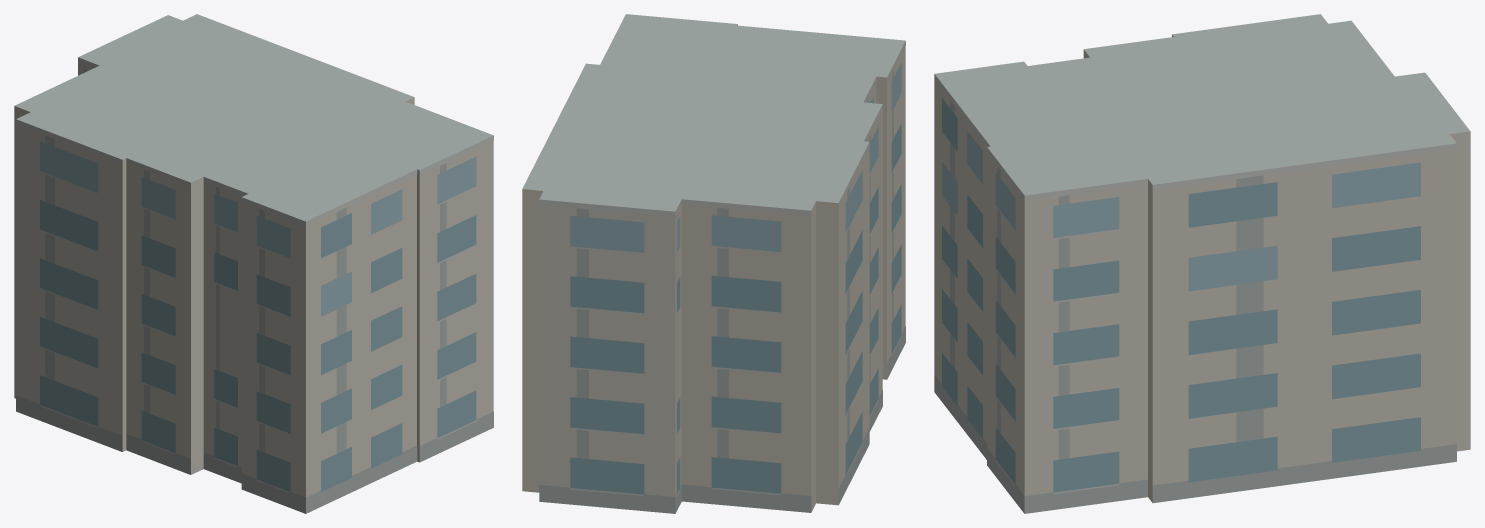
The model's file is survey-upis-32619048.glb.
The picture shows the model from 3 angles, left to right: view 1: azimuth 30°, elevation 25°; view 2: azimuth 150°, elevation 25°; view 3: azimuth 270°, elevation 25°; orthographic projection. The views are drawn at different scales.
Visible parts, largest first — view 1: survey-upis-32619048.tmp; view 2: survey-upis-32619048.tmp; view 3: survey-upis-32619048.tmp.
Boxes of the visible parts, x1,y1,x2,y2 form: survey-upis-32619048.tmp: (14, 14, 493, 513); survey-upis-32619048.tmp: (522, 14, 905, 513); survey-upis-32619048.tmp: (934, 14, 1470, 513).
Bounding box in the file's own units: 16.77 × 13.7 × 20.92.
